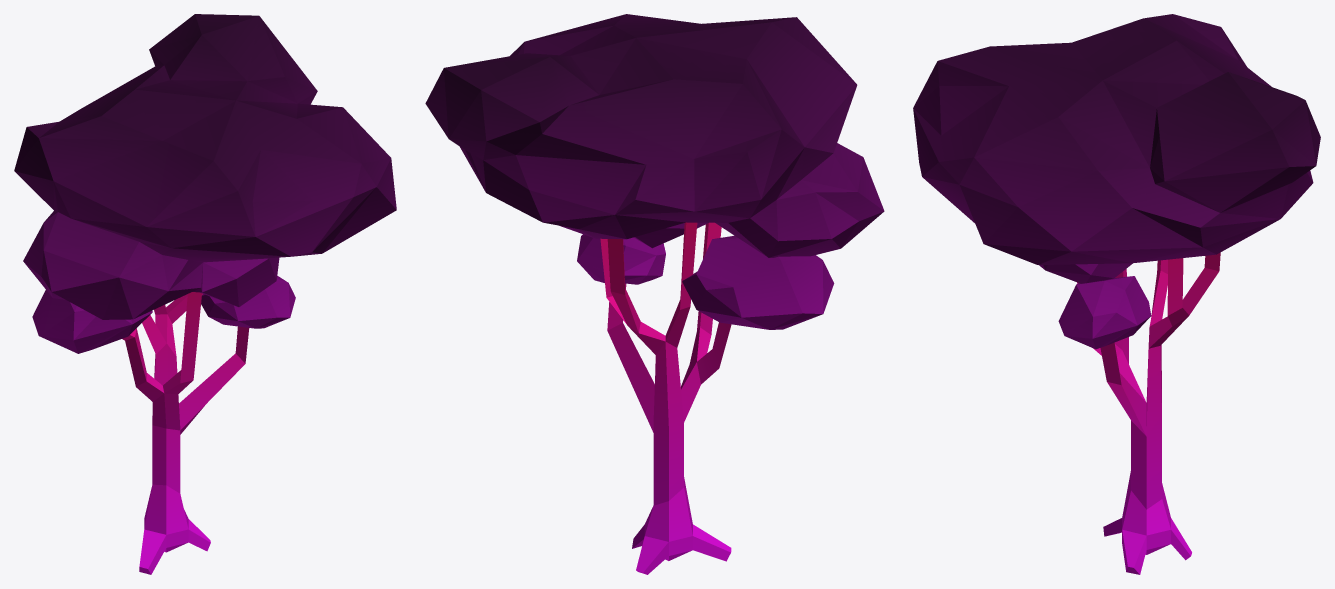
Rendered from SM_Env_Tree_Cherry_01.fbx.
3 renders of one model, left to right at view 1: azimuth 30°, elevation 25°; view 2: azimuth 150°, elevation 25°; view 3: azimuth 270°, elevation 25°, orthographic. The views are drawn at different scales.
Parts seen in each view (by area): view 1: SM_Env_Tree_Cherry_01; view 2: SM_Env_Tree_Cherry_01; view 3: SM_Env_Tree_Cherry_01.
Boxes of the visible parts, x1,y1,x2,y2 form: SM_Env_Tree_Cherry_01: (14, 14, 396, 574); SM_Env_Tree_Cherry_01: (425, 14, 884, 574); SM_Env_Tree_Cherry_01: (913, 14, 1320, 574).
Bounding box in the file's own units: 329 × 434 × 307.
